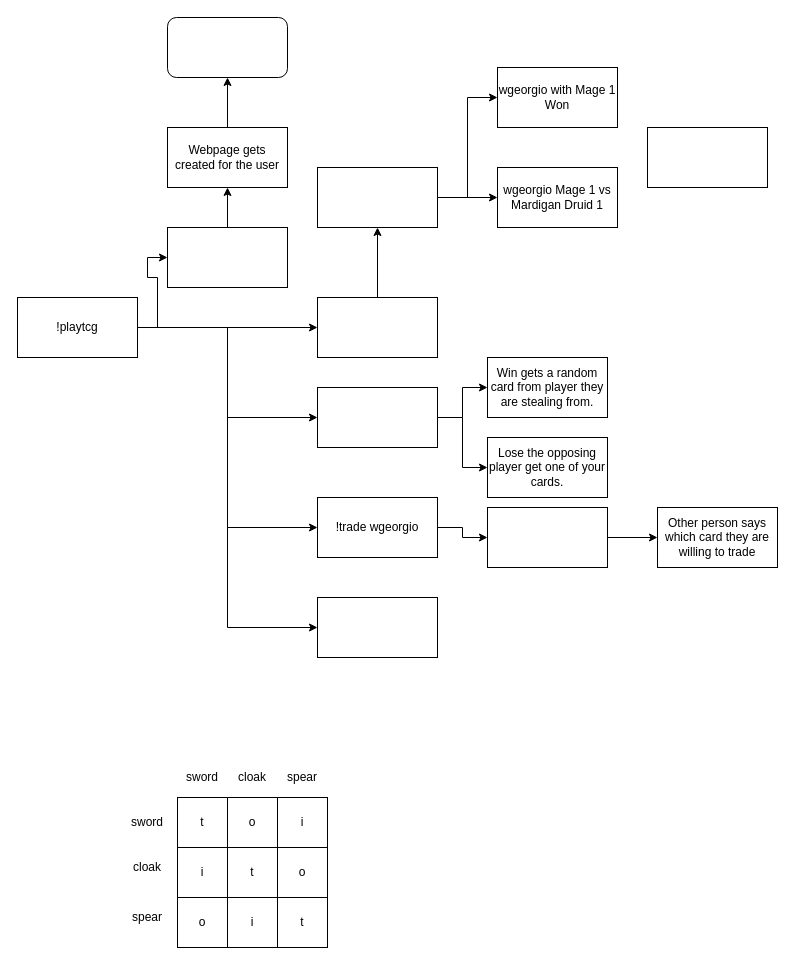
Some shapes in this 795 by 965 pixel diagram are drawn without their labels. The shapes that lost their labels are listed below. From the top down, each one's centre as x and y in pixels, then its label:
the point at 227,47: See card on thier webpage
the point at 707,157: Times 5
the point at 377,197: wgeorgio accept?!?
the point at 227,257: Random Cards gets selected and sent to the webpage
the point at 377,327: !battle wgeorgio
the point at 377,417: !steal wgeorgio
the point at 547,537: What card are you willing to trade.
